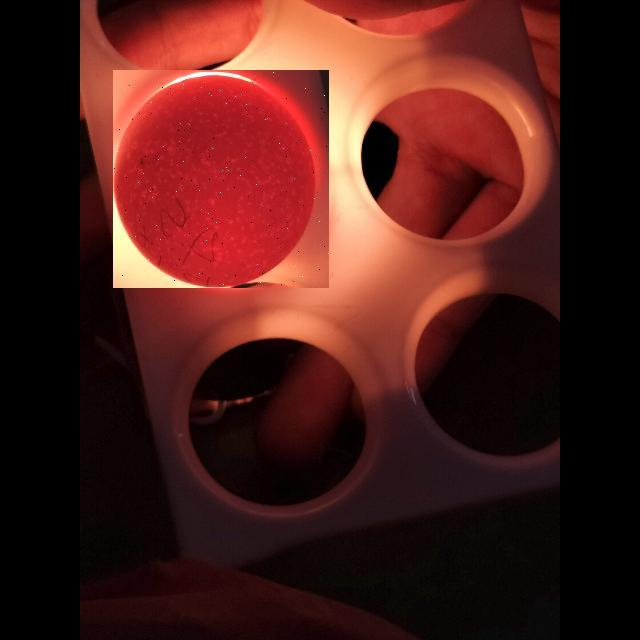Infertile: (113, 70, 329, 288)
